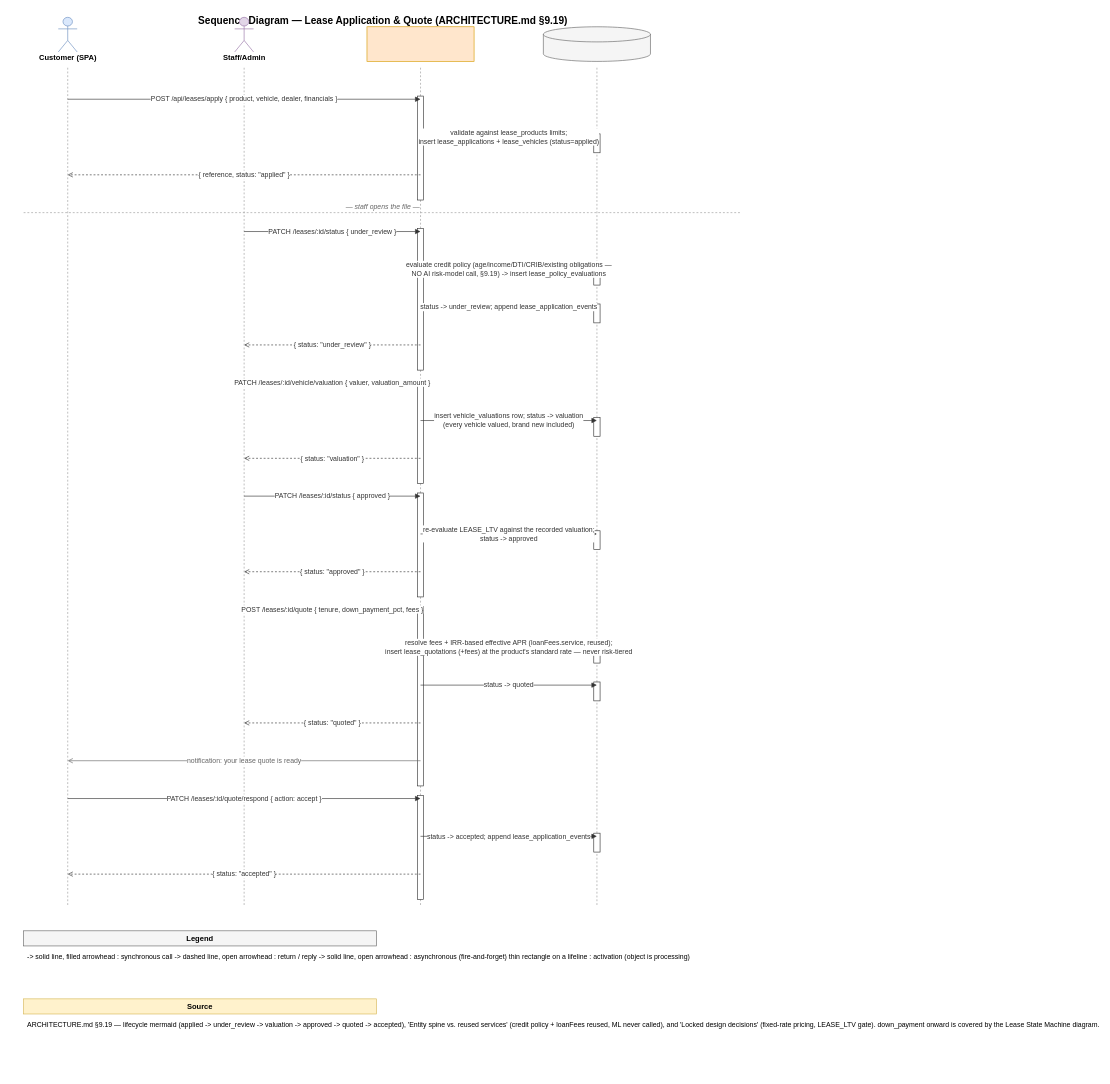
Image size: 1110x1084. Some labels were removed from this diagram. Here are the shapes that lost their labels. From the top down, the box of each, then its label:
(366, 26, 474, 61): API Gateway (Node)
(543, 26, 650, 61): MySQL
